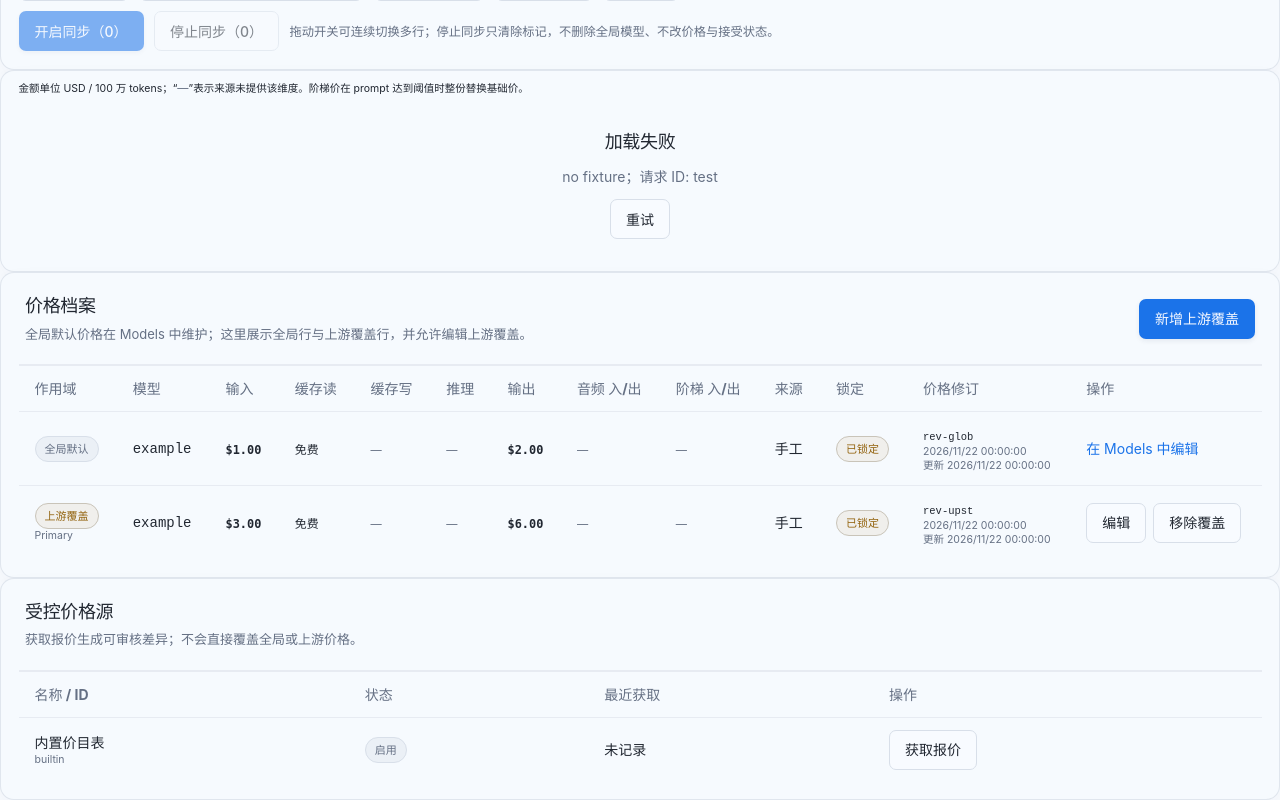
Test: prices surface › renders a quote run with current and proposed values, match method and base revision
(page scrolled)
Click the button "获取报价". click: (933, 750)
box: [889,730,977,770]
(page scrolled)
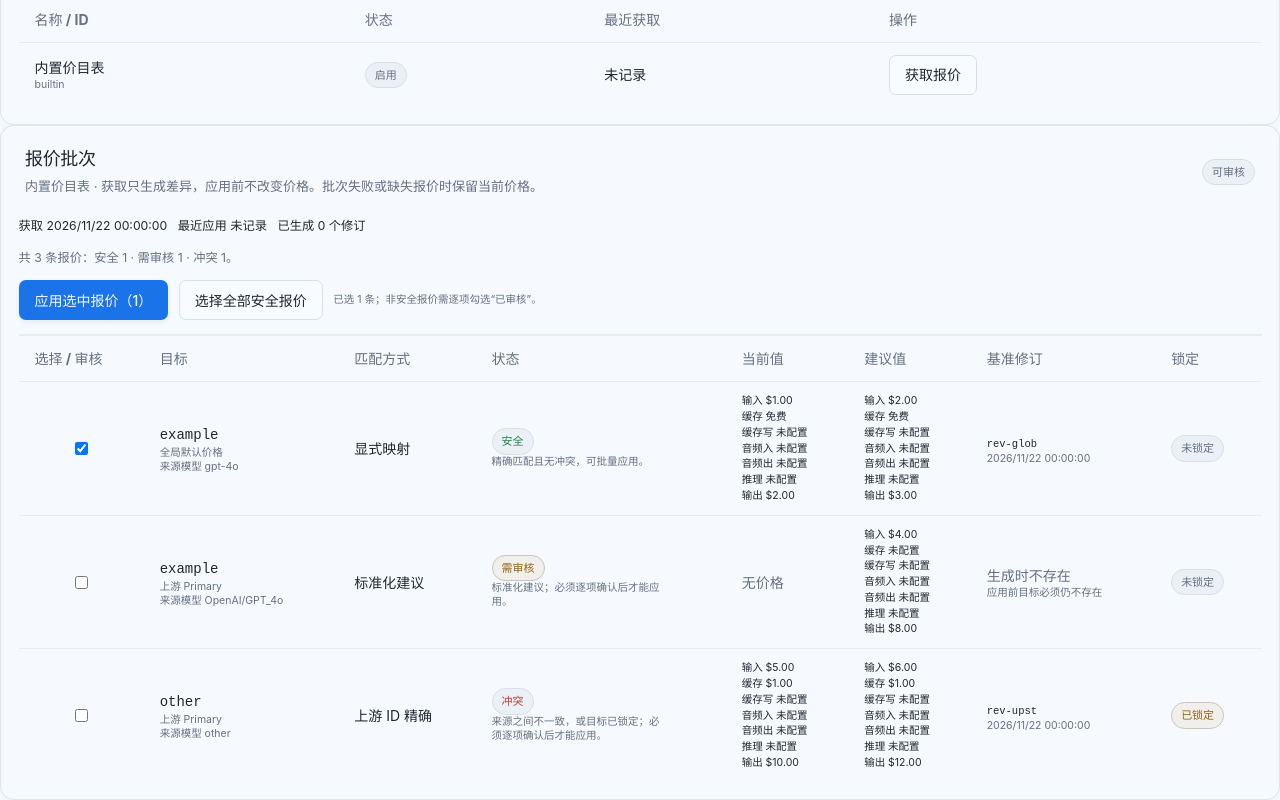
Now the text "显式映射" is shown, box [338,382,476,515]
Now the text "安全" is shown, box [492,428,534,455]
Now the text "需审核" is shown, box [492,555,544,581]
